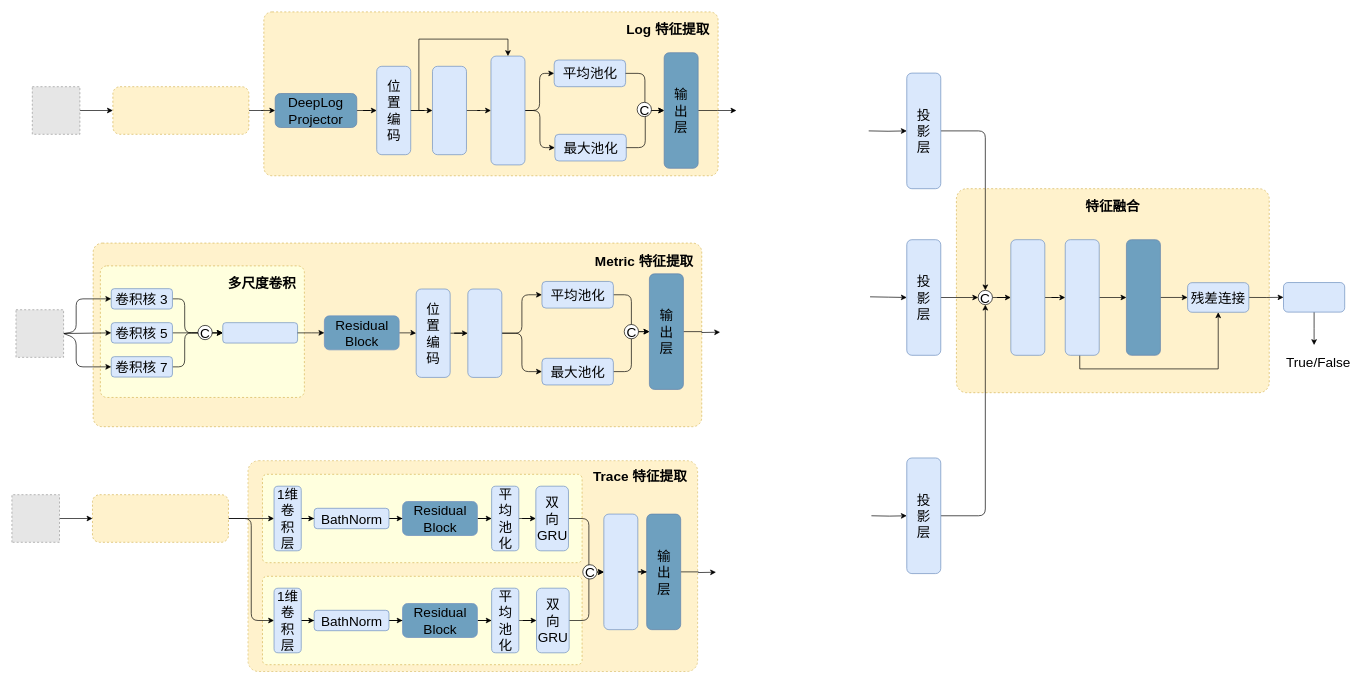
Some shapes in this 1372 by 683 pixel diagram are drawn without their labels. Grey dashed boxes stand in for pictures. Here are the shapes that lost their labels. From the top down, the centre of each, then its label:
At point 180,110: "Log 特征增强".
At point 449,110: "局 部 注 意 力".
At point 507,110: "门 控 残 差 链 接".
At point 1027,297: "门 控 融 合 层".
At point 1082,297: "加 权 融 合".
At point 1143,297: "特 征 重 标 定".
At point 1314,297: "MLP".
At point 260,332: "1×1 卷积层".
At point 484,332: "多 头 注 意 力".
At point 160,518: "Trace 特征增强".
At point 620,571: "门 控 特 征 融 合".
